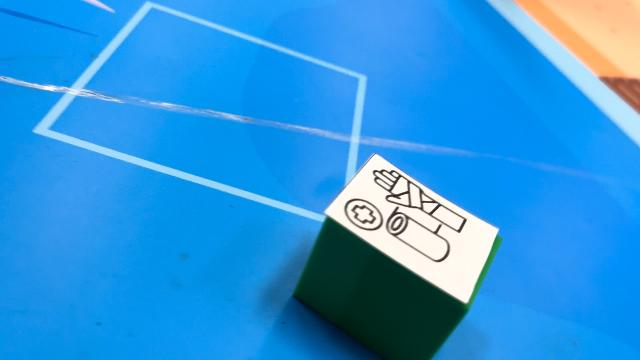bandage: (292, 153, 502, 360)
